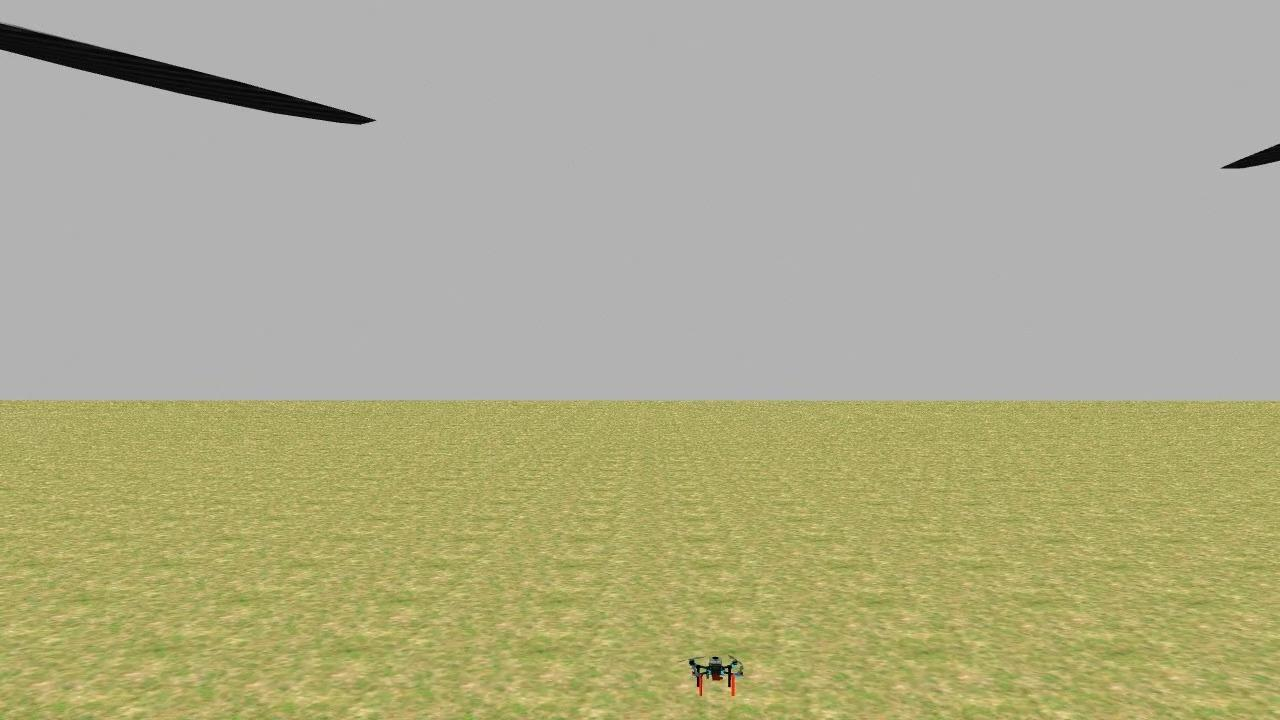UAV: (658, 636, 773, 711)
